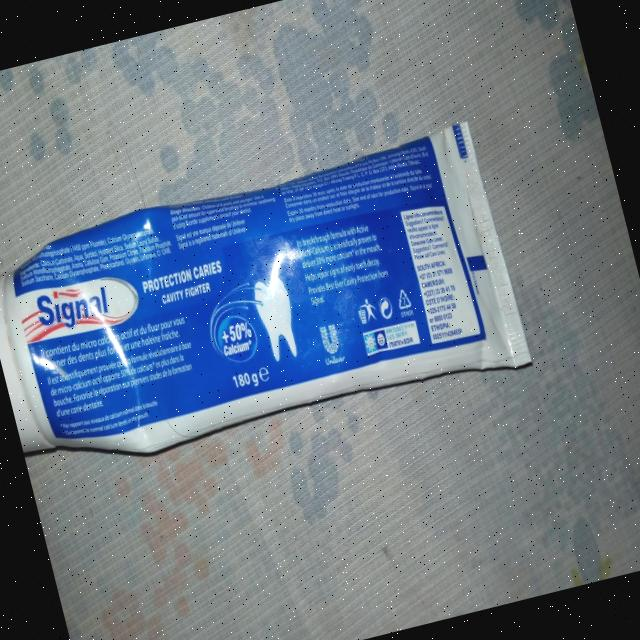Toothpaste: (0, 113, 539, 497)
